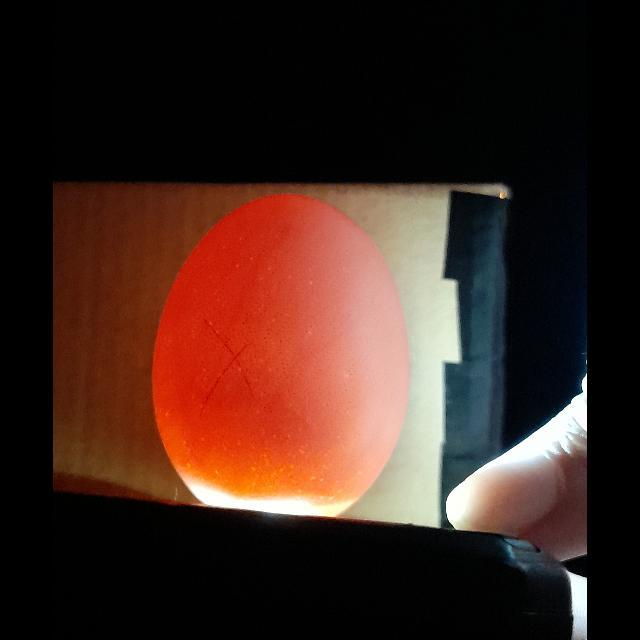Fertile: (150, 193, 414, 522)
